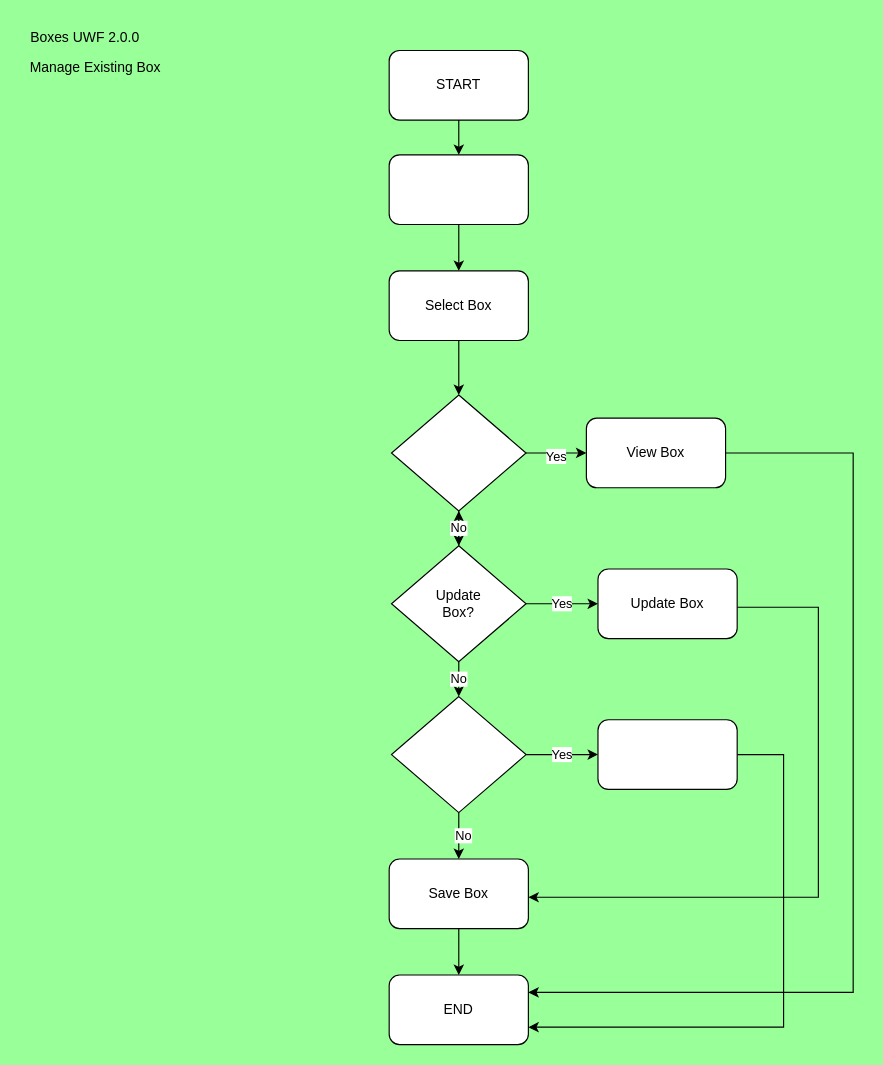
The diagram is 883 pixels wide and 1065 high, and some of its shapes have lost their labels. Each missing label, with the box of its shape:
List Boxes: (388, 154, 528, 224)
Remove Box: (597, 719, 737, 789)
Remove Box?: (390, 695, 526, 813)
View Box?: (390, 394, 526, 511)
